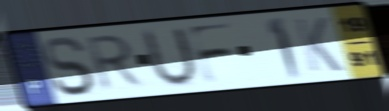1: (264, 16, 303, 81)
F: (185, 20, 238, 87)
K: (292, 15, 346, 74)
R: (84, 32, 148, 94)
S: (40, 34, 97, 98)
U: (140, 24, 200, 91)
